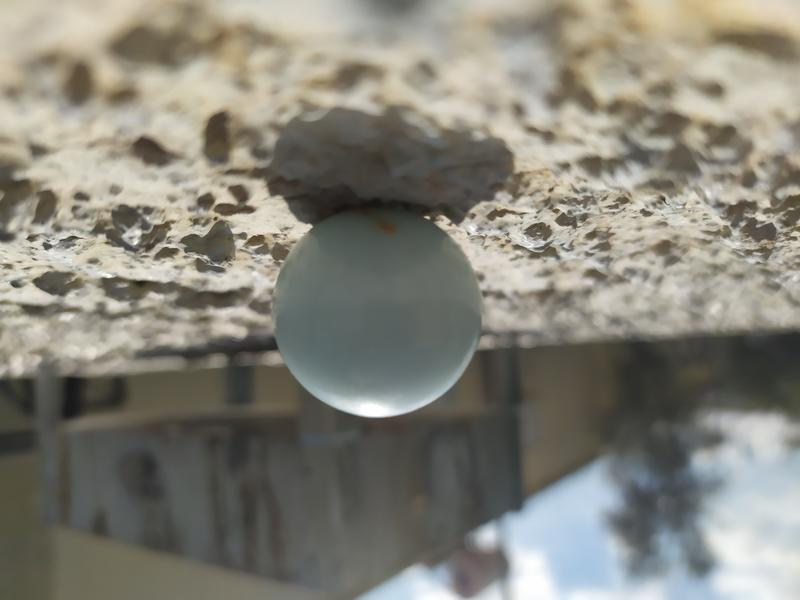Warning: (264, 199, 490, 425)
